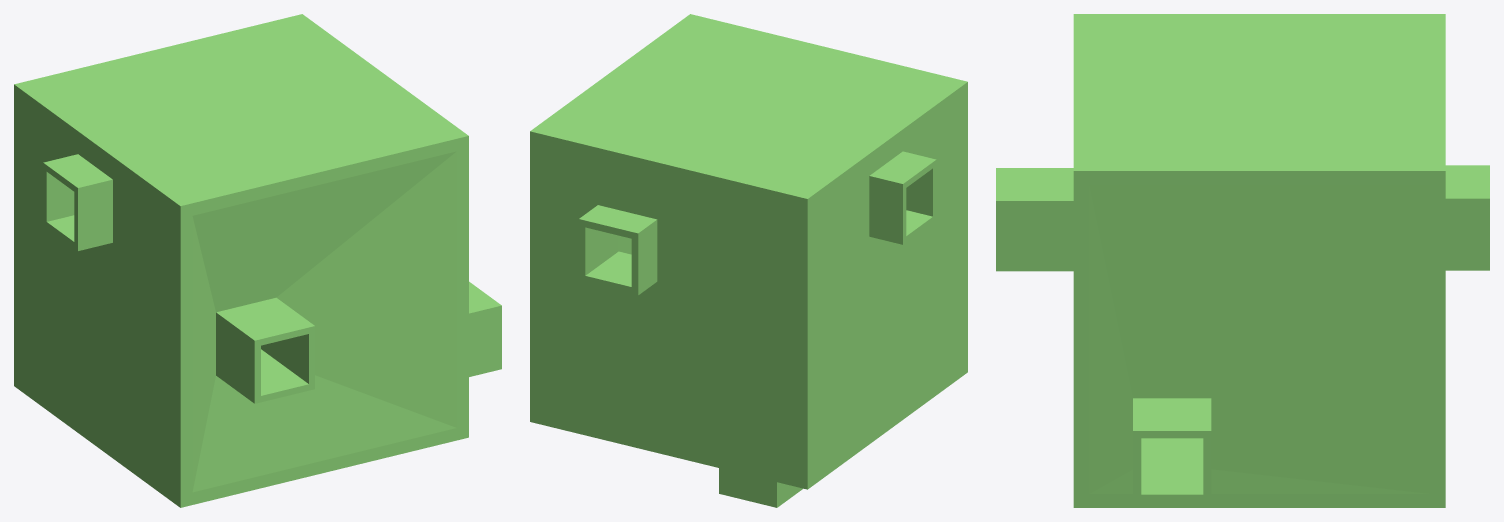
The model's file is demolevelGreen.fbx.
3 views of the same model, side by side, from view 1: azimuth 30°, elevation 25°; view 2: azimuth 150°, elevation 25°; view 3: azimuth 270°, elevation 25° (orthographic). The views are drawn at different scales.
Parts seen in each view (by area): view 1: Level; view 2: Level; view 3: Level.
Boxes of the visible parts, box(x1,y1,x2,y2) form: Level: box(14, 14, 501, 507); Level: box(530, 14, 967, 507); Level: box(996, 14, 1489, 507).
Bounding box in the file's own units: 1593 × 1430 × 1594.
